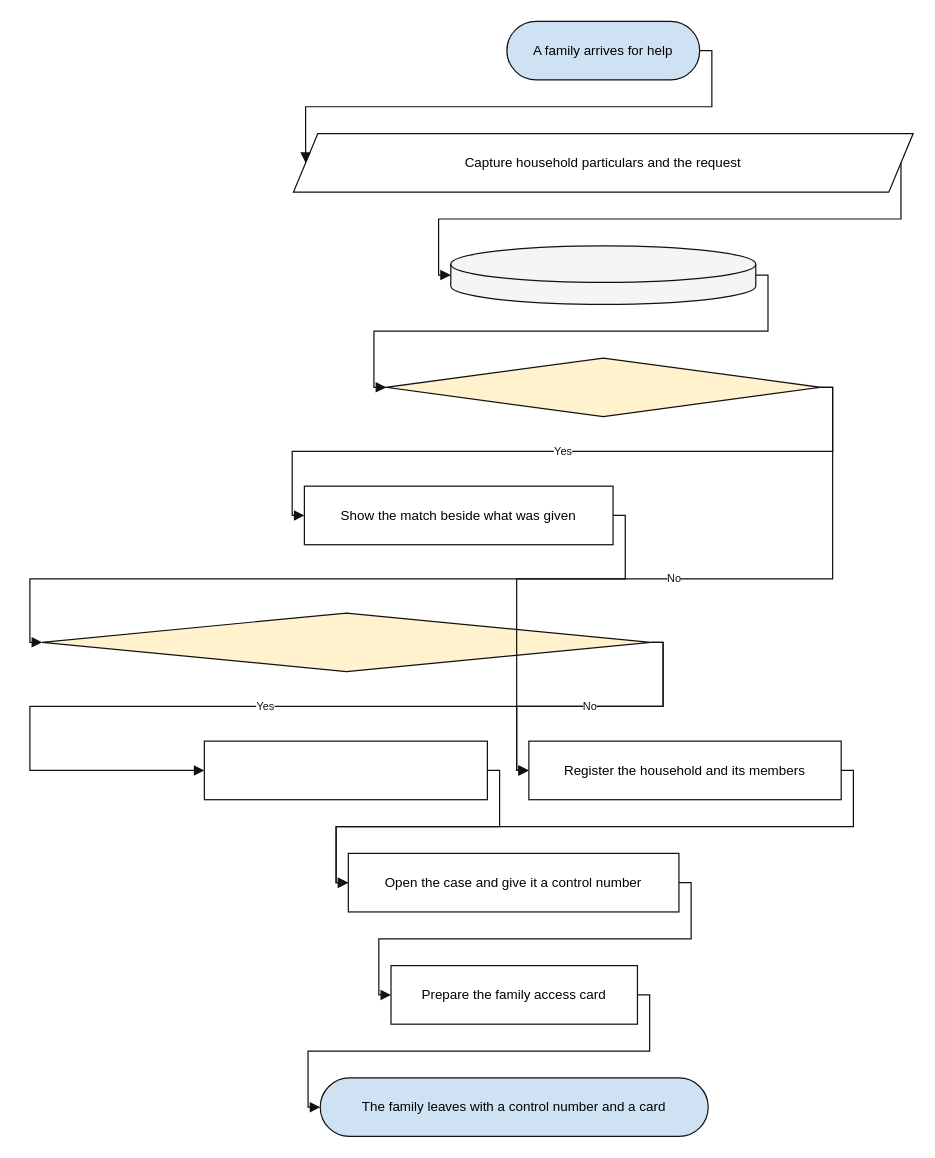
The diagram is 935 pixels wide and 1158 high, and some of its shapes have lost their labels. Here are the shapes that lost their labels. From the top down, the box of each, then its label:
(450, 245, 756, 304): Households already known to the office
(385, 357, 820, 417): A matching household is on file?
(41, 612, 651, 672): The worker confirms it is the same household?
(203, 740, 487, 800): Attach the request to that household
